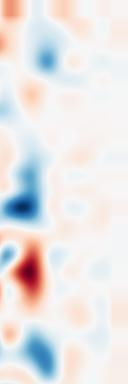filament: (8, 235, 56, 311)
